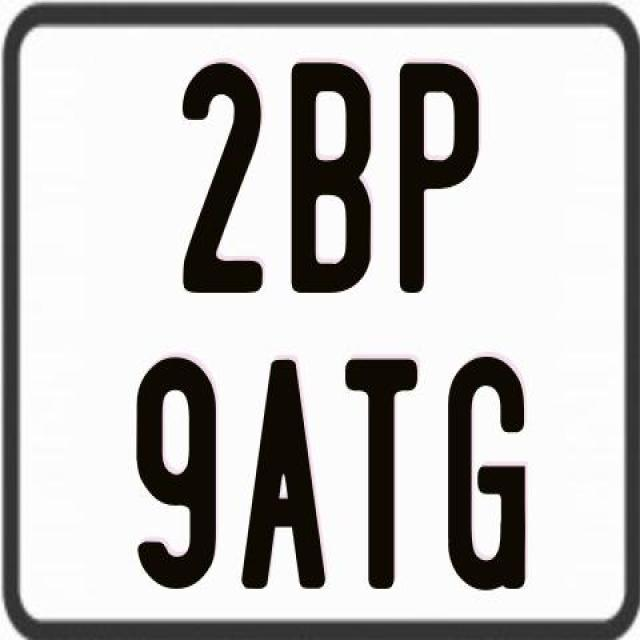2: (178, 59, 264, 299)
9: (133, 356, 216, 596)
A: (238, 360, 322, 592)
B: (292, 61, 370, 300)
G: (444, 352, 522, 586)
P: (398, 58, 478, 290)
T: (342, 356, 418, 590)
